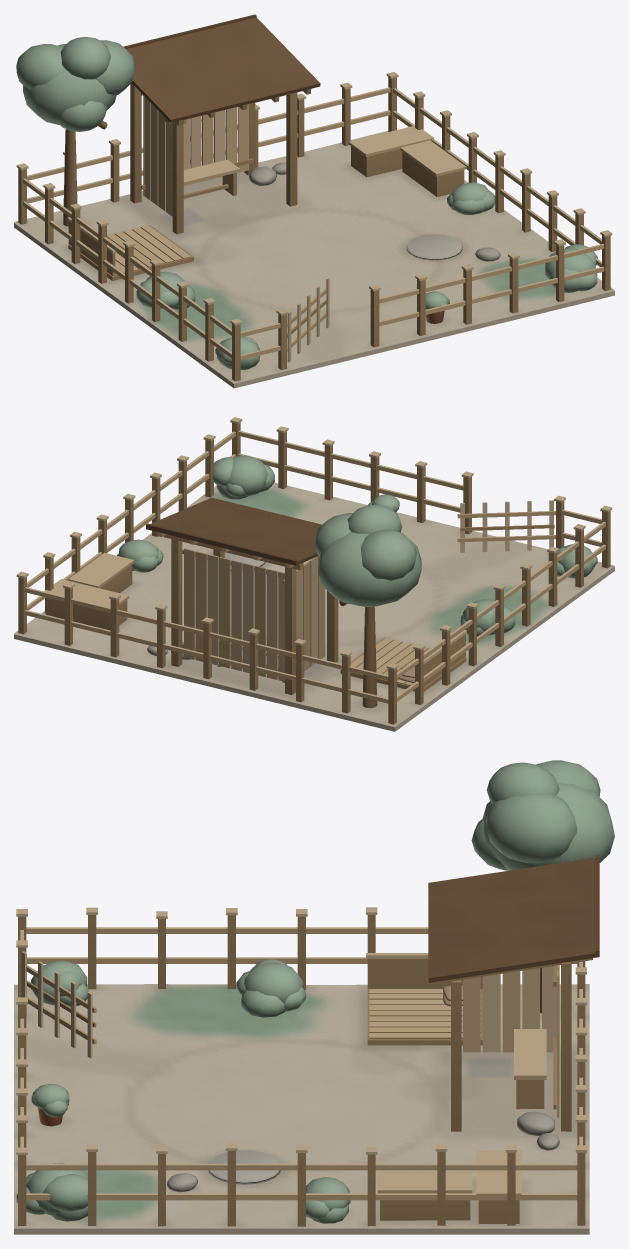
File: school_courtyard.glb
The picture shows the model from 3 angles, top to bottom: view 1: azimuth 30°, elevation 25°; view 2: azimuth 150°, elevation 25°; view 3: azimuth 270°, elevation 25°; orthographic projection. The views are drawn at different scales.
Parts seen in each view (by area): view 1: school_courtyard; view 2: school_courtyard; view 3: school_courtyard.
Part boxes in pixels (bbox=[...]): school_courtyard: bbox=[14, 14, 614, 388]; school_courtyard: bbox=[14, 417, 614, 731]; school_courtyard: bbox=[14, 760, 614, 1234].
Bounding box in the file's own units: 7.09 × 3.42 × 7.31.
